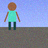person: (4, 2, 20, 30)
